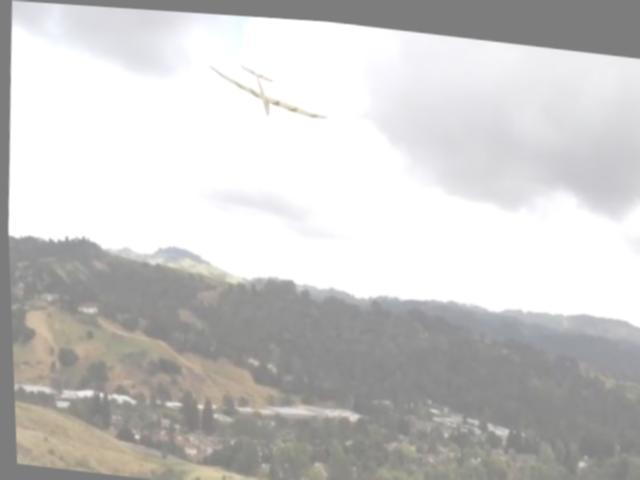iha: (197, 39, 332, 124)
